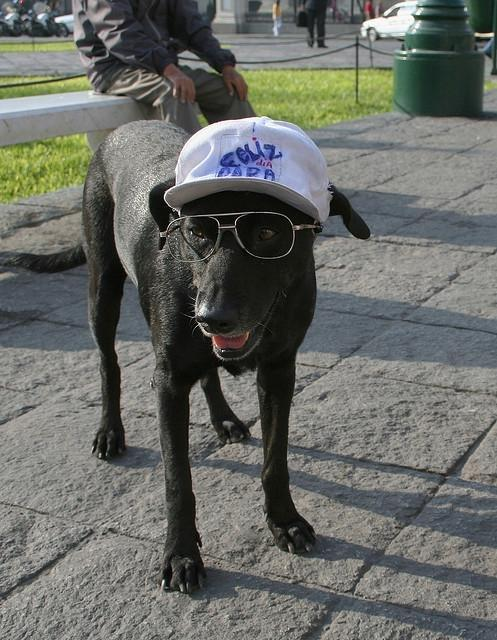car: (359, 1, 417, 44), (54, 13, 74, 38)
motorcycle: (20, 11, 70, 38), (3, 14, 20, 36)
